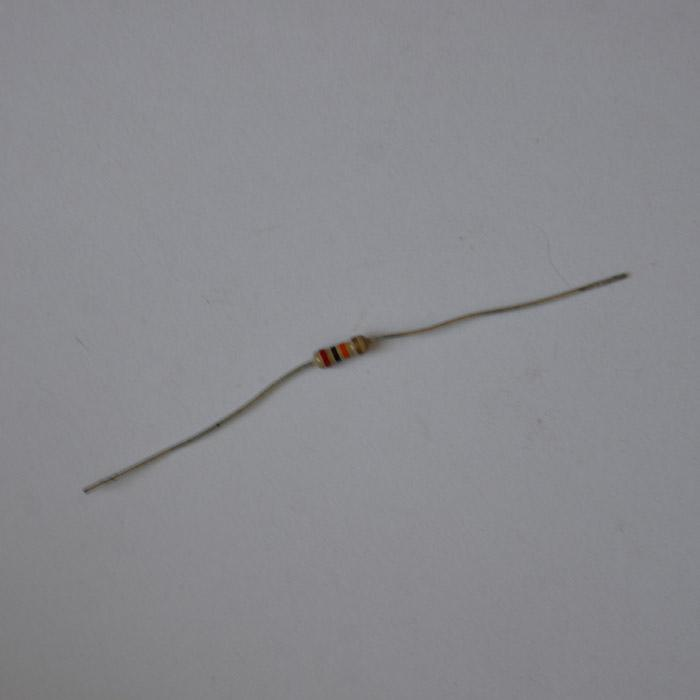resistor: (310, 334, 370, 369)
